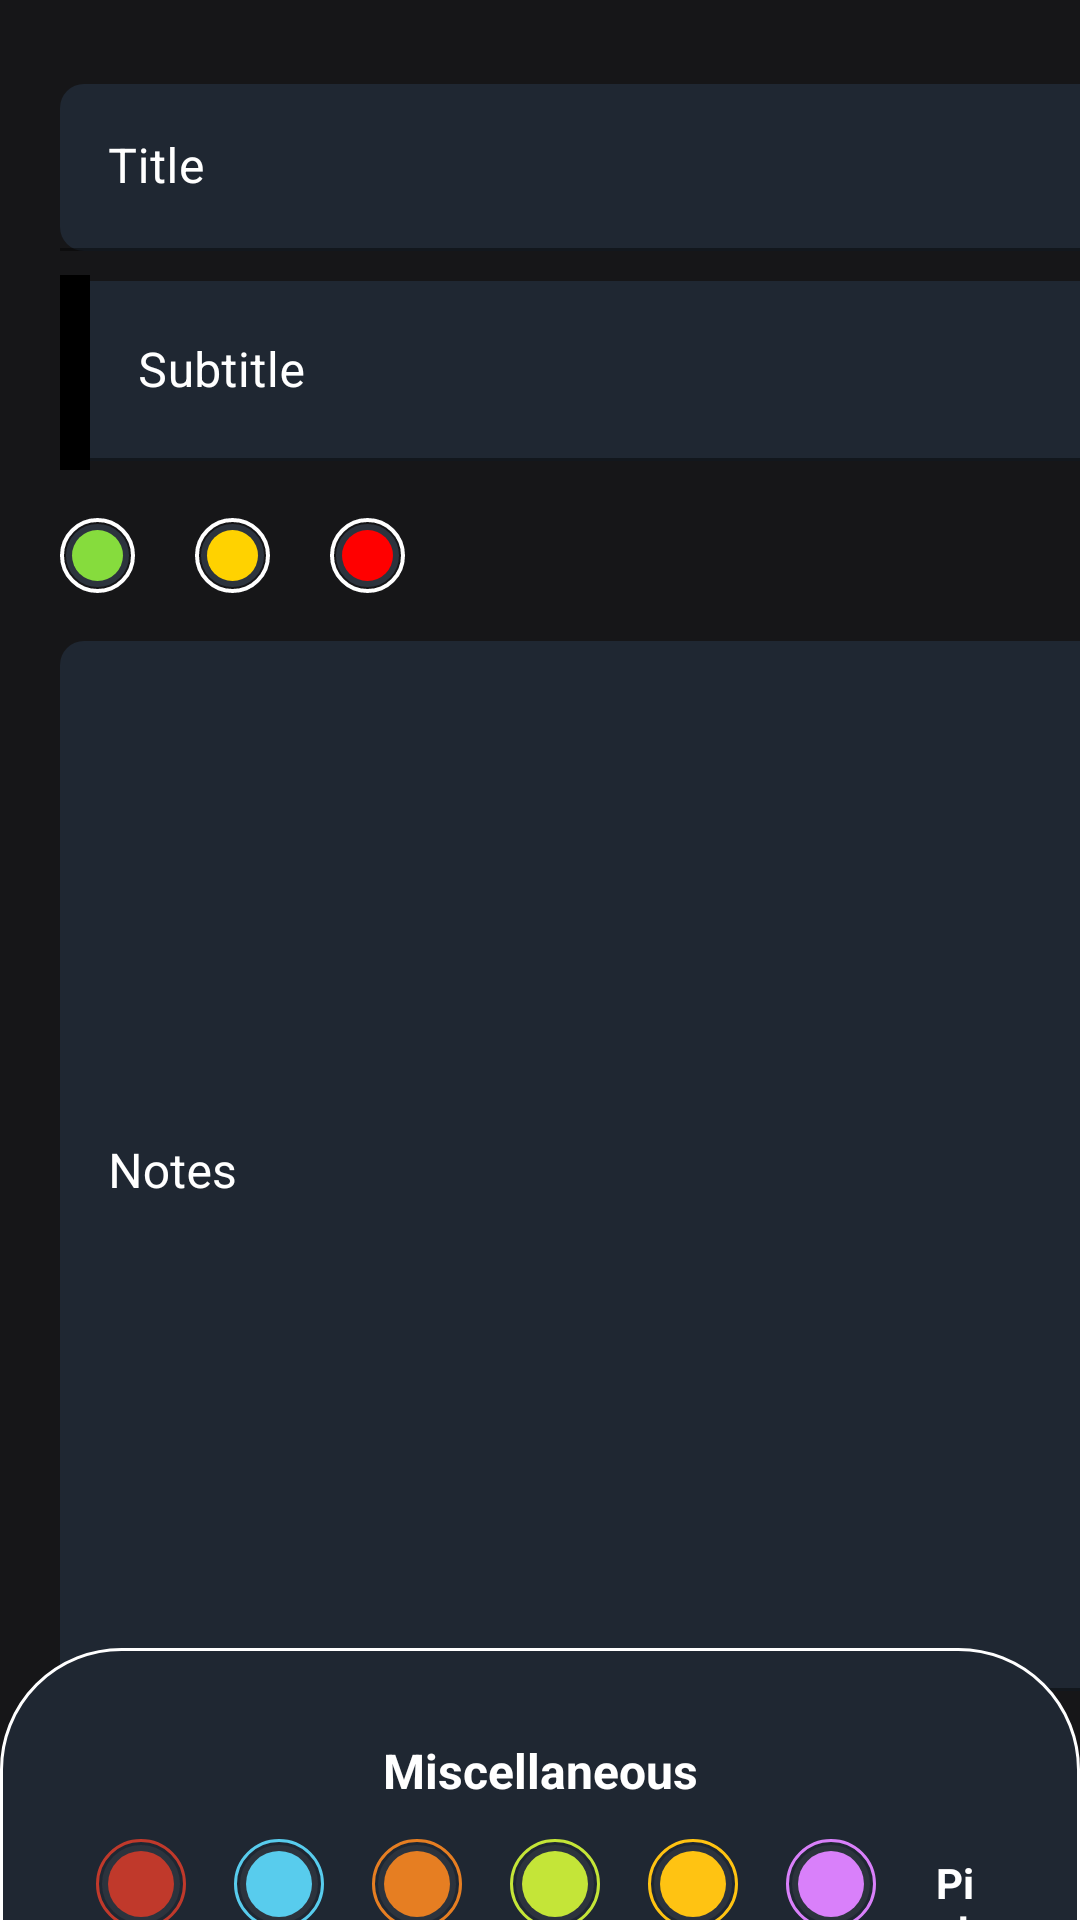

Point at icon controls on the screen. Image size 1080×1920, points as (x=x, y=y).
high: (x=367, y=555)
low: (x=97, y=555)
mid: (x=232, y=555)
